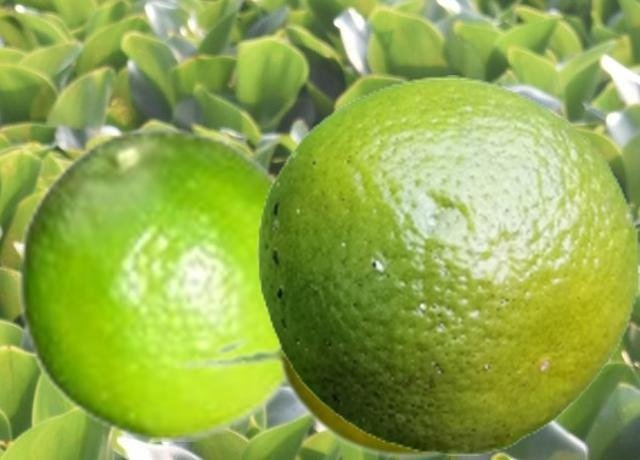calamansi: (257, 75, 638, 454), (17, 125, 288, 440), (170, 306, 459, 458)
